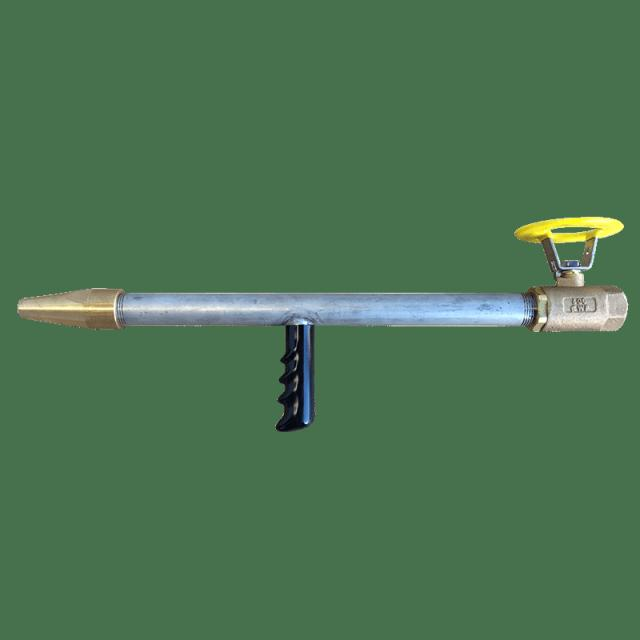Weapon: (6, 277, 636, 433)
